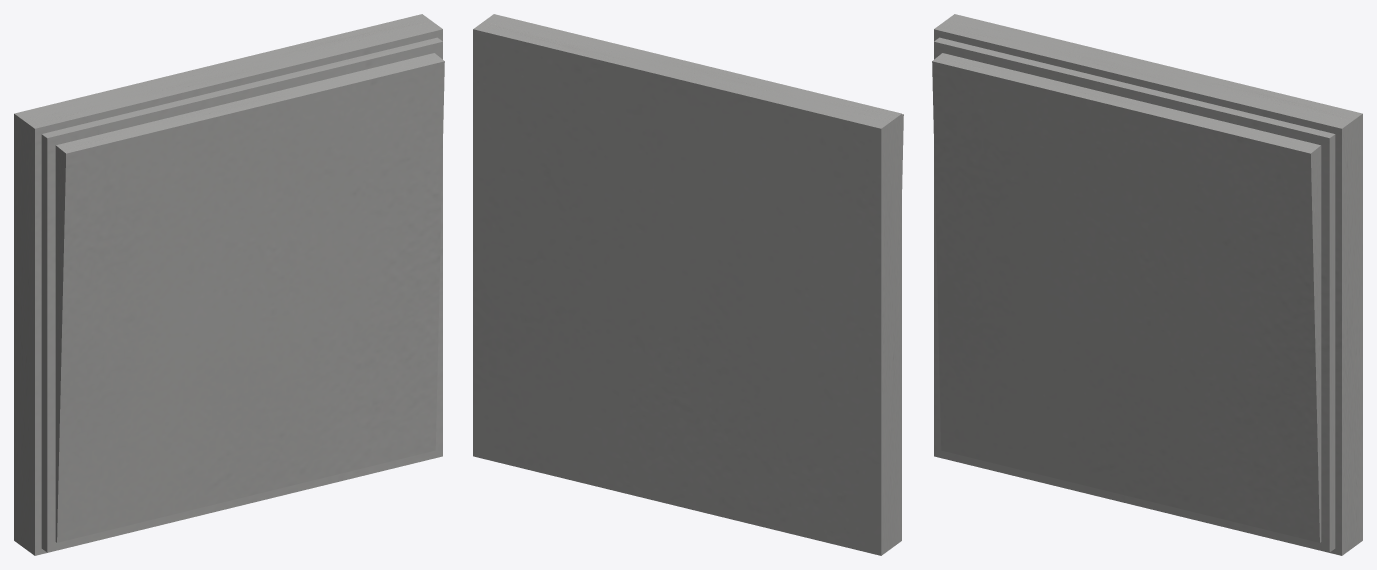
File: Lampknapp.fbx
3 views of the same model, side by side, from view 1: azimuth 30°, elevation 25°; view 2: azimuth 150°, elevation 25°; view 3: azimuth 330°, elevation 25° (orthographic).
Parts seen in each view (by area): view 1: pCube3, pCube1, pCube2; view 2: pCube1; view 3: pCube3, pCube1, pCube2.
Part boxes in pixels (x1,y1,x2,y2): pCube3: [55, 53, 444, 542]; pCube1: [14, 14, 442, 555]; pCube2: [41, 37, 442, 552]; pCube1: [473, 14, 901, 555]; pCube3: [932, 53, 1321, 542]; pCube1: [934, 14, 1362, 555]; pCube2: [934, 37, 1335, 552].
Bounding box in the file's own units: 0.05 × 0.05 × 0.00791.
1 material, 1 textured.
